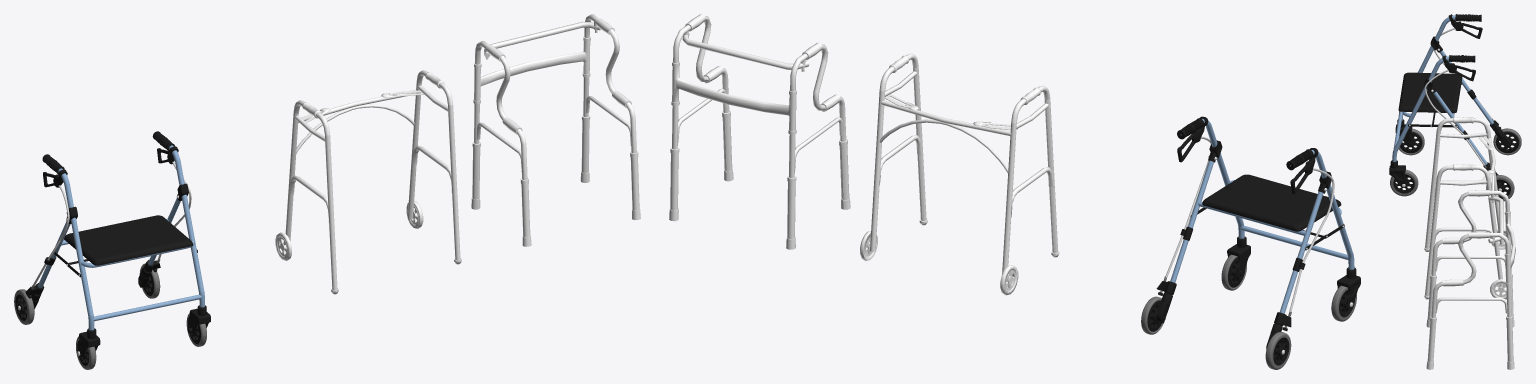
The model's file is walker.glb.
3 views of the same model, side by side, from view 1: azimuth 30°, elevation 25°; view 2: azimuth 150°, elevation 25°; view 3: azimuth 270°, elevation 25° (orthographic). The views are drawn at different scales.
Visible parts, largest first — view 1: Symmetry_8, SM_MobilityAssistWalker, SM_FoldingWalker_obj_cleaner_materialmerger_gles; view 2: Symmetry_8, SM_MobilityAssistWalker, SM_FoldingWalker_obj_cleaner_materialmerger_gles; view 3: Symmetry_8, SM_MobilityAssistWalker, SM_FoldingWalker_obj_cleaner_materialmerger_gles.
Part boxes in pixels (bbox=[...]): Symmetry_8: bbox=[14, 131, 210, 369]; SM_MobilityAssistWalker: bbox=[471, 14, 640, 246]; SM_FoldingWalker_obj_cleaner_materialmerger_gles: bbox=[275, 70, 461, 294]; Symmetry_8: bbox=[1141, 116, 1360, 369]; SM_MobilityAssistWalker: bbox=[669, 14, 850, 249]; SM_FoldingWalker_obj_cleaner_materialmerger_gles: bbox=[860, 53, 1059, 295]; Symmetry_8: bbox=[1389, 14, 1521, 201]; SM_MobilityAssistWalker: bbox=[1426, 190, 1515, 369]; SM_FoldingWalker_obj_cleaner_materialmerger_gles: bbox=[1424, 117, 1506, 299].
Bounding box in the file's own units: 263 × 78.77 × 66.75.
